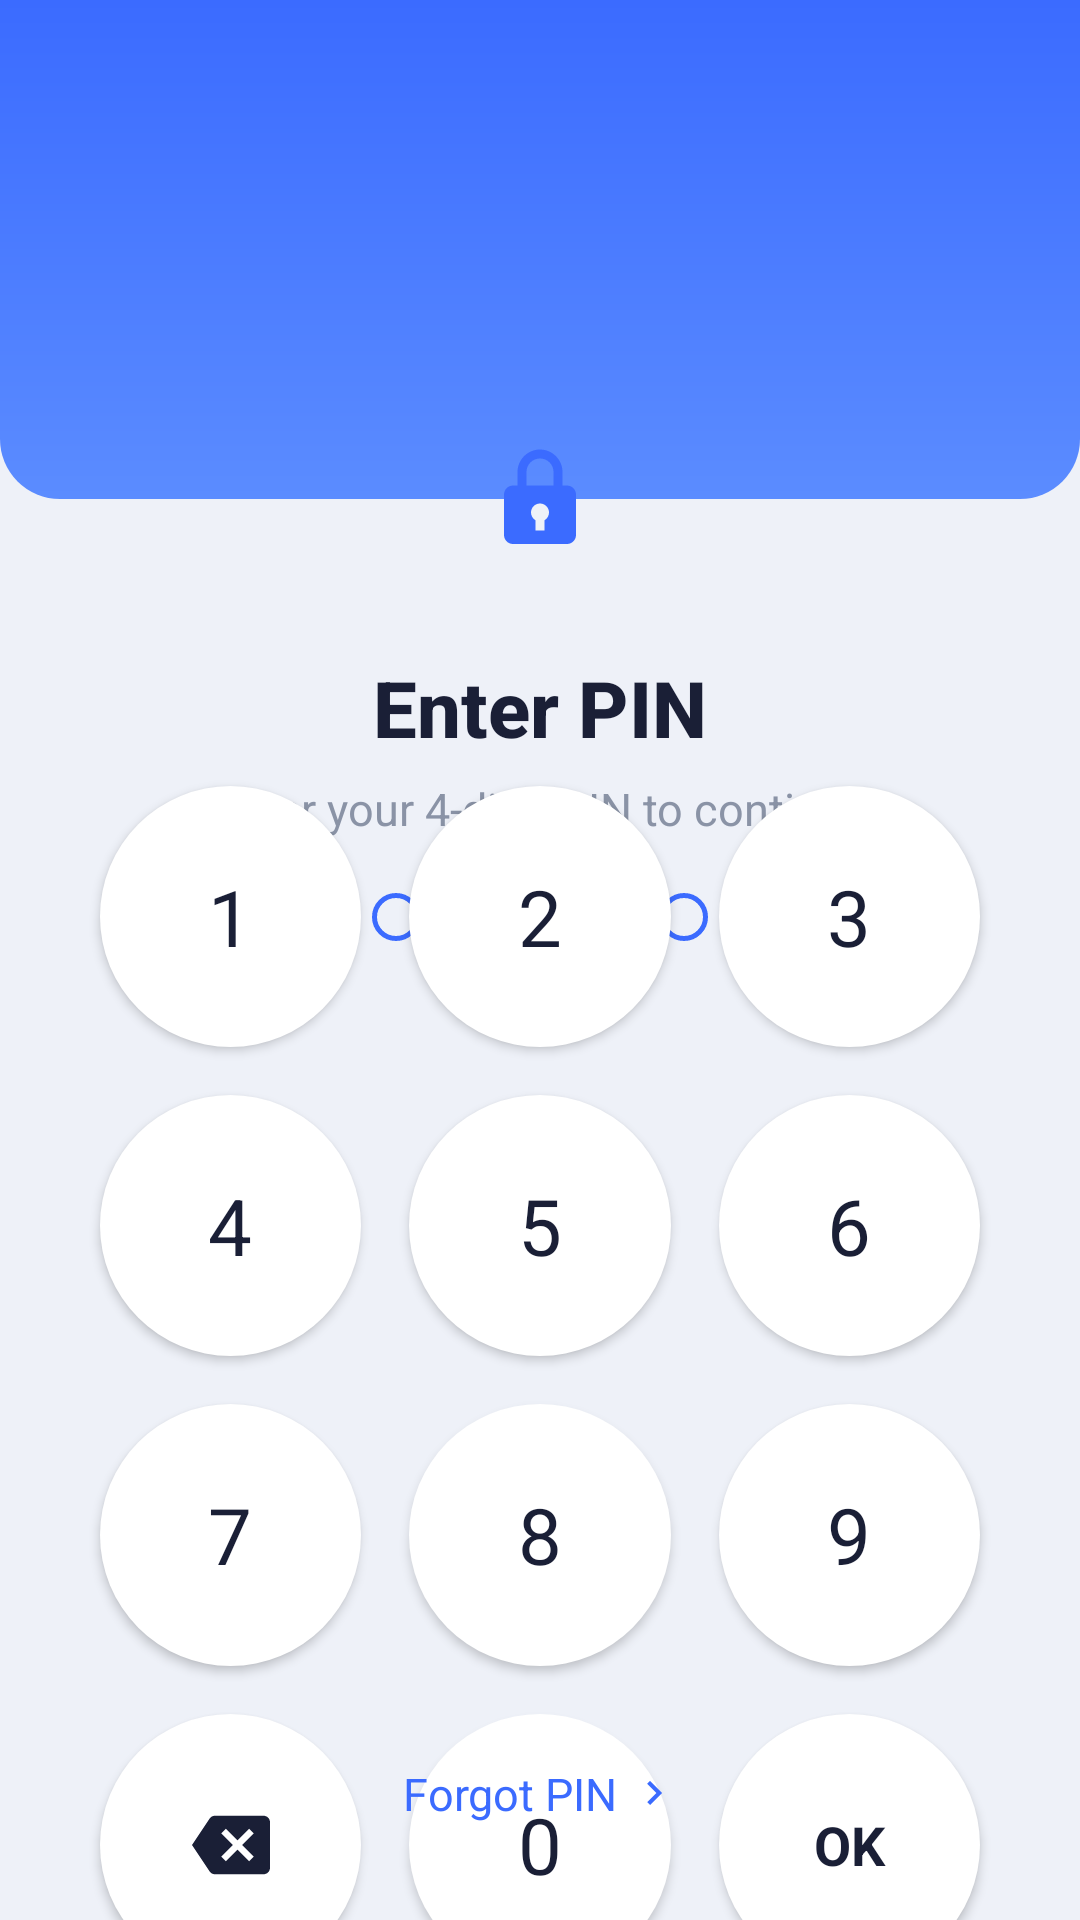

Screen size 1080 × 1920. Icon name, then its center in pixels as (x=x, y=y):
Lock icon: (x=540, y=499)
